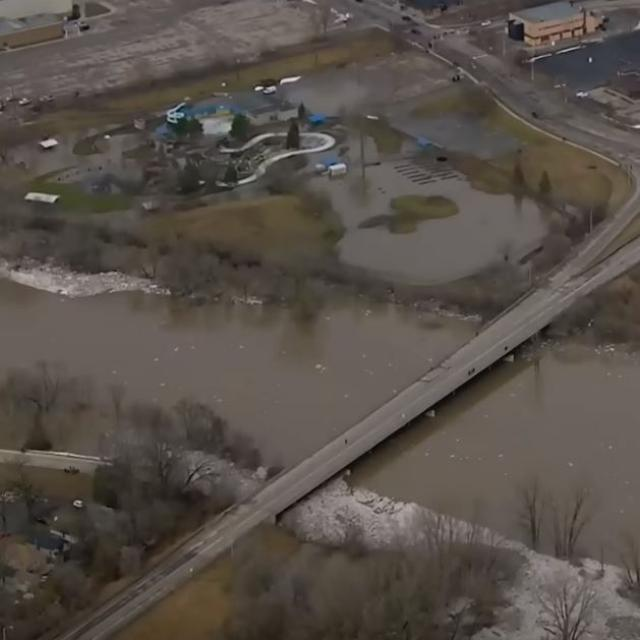flooded_areas: (23, 76, 560, 266)
